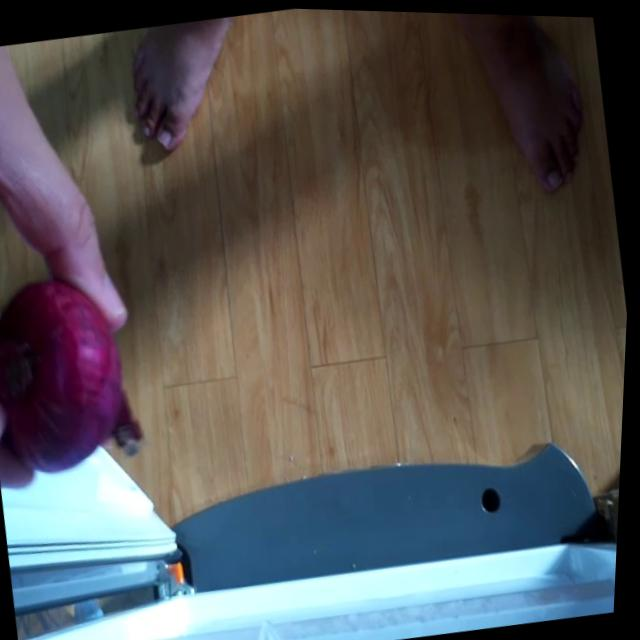onion: (0, 265, 159, 486)
